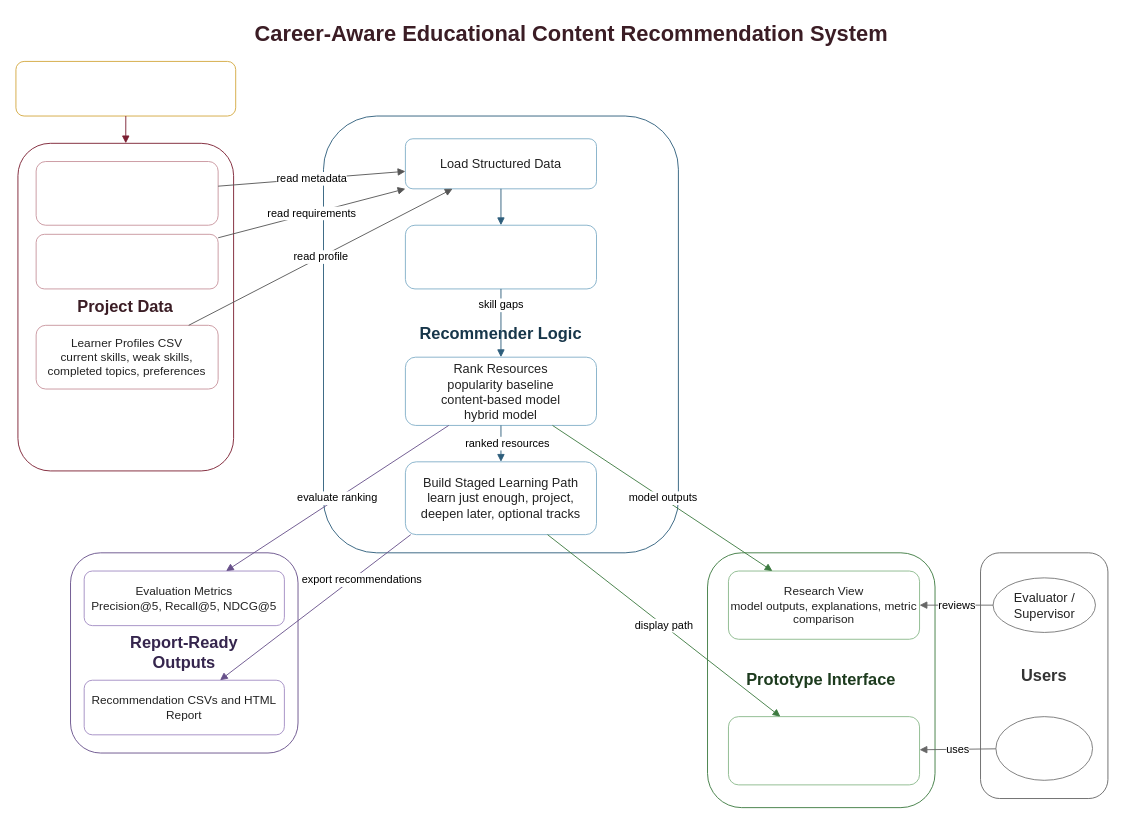
The diagram is 1124 pixels wide and 824 high, and some of its shapes have lost their labels. Here are the shapes that lost their labels. From the top down, the centre of each, then its label:
At pixel 125 88: "External Source Evidence Coursera, DataCamp, freeCodeCamp, skill sources".
At pixel 126 193: "Learning Resources CSV provider, skills, difficulty, prerequisites, quality".
At pixel 126 261: "Career Skill Map CSV Data Analyst, ML Engineer, Software Developer".
At pixel 500 256: "Calculate Skill Gaps pathway requirement - learner level".
At pixel 824 750: "Learner View profile, skill gaps, recommendations, completion checkboxes".
At pixel 1044 748: "Learner".
